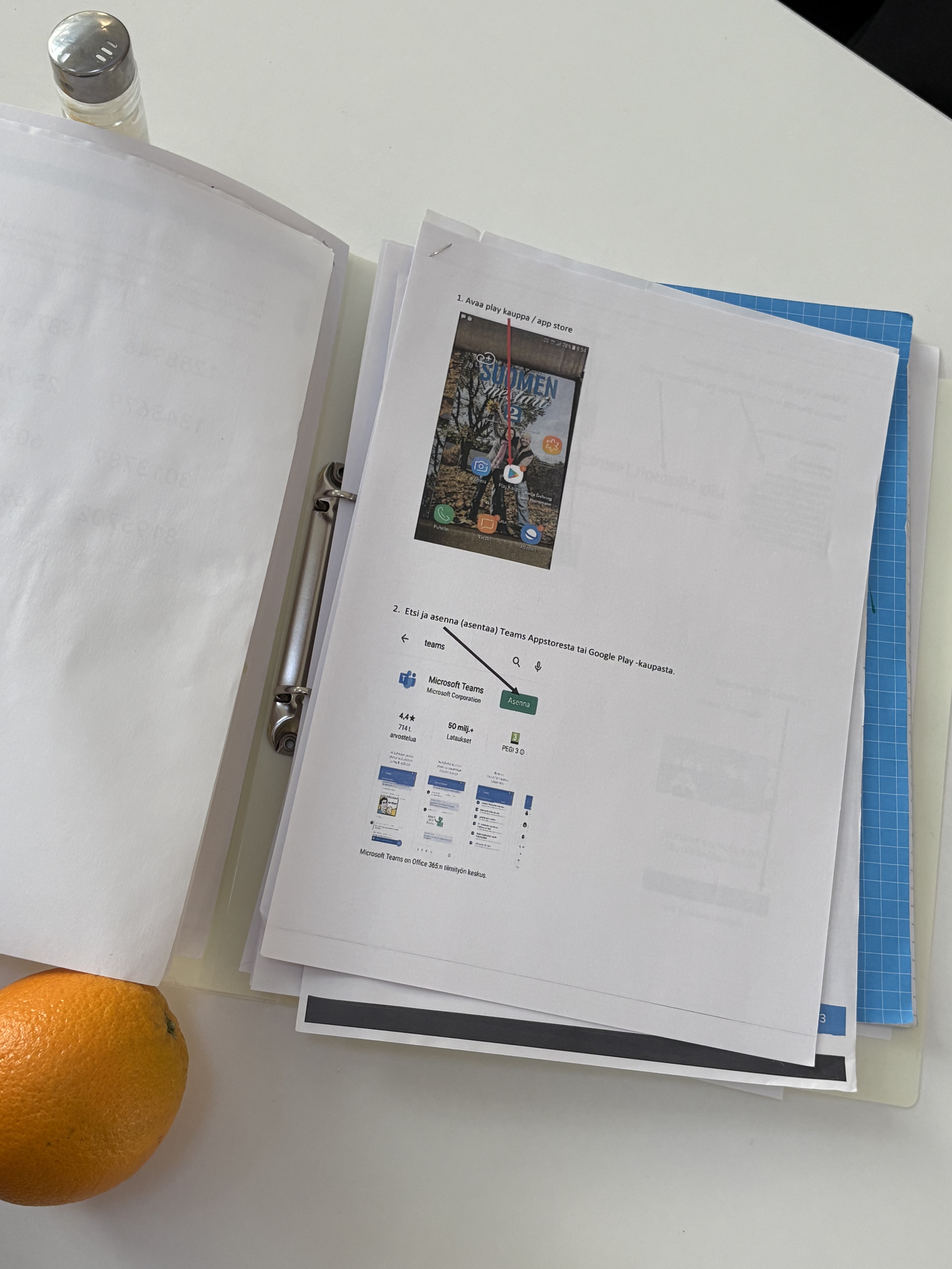paper: (232, 214, 932, 1111)
